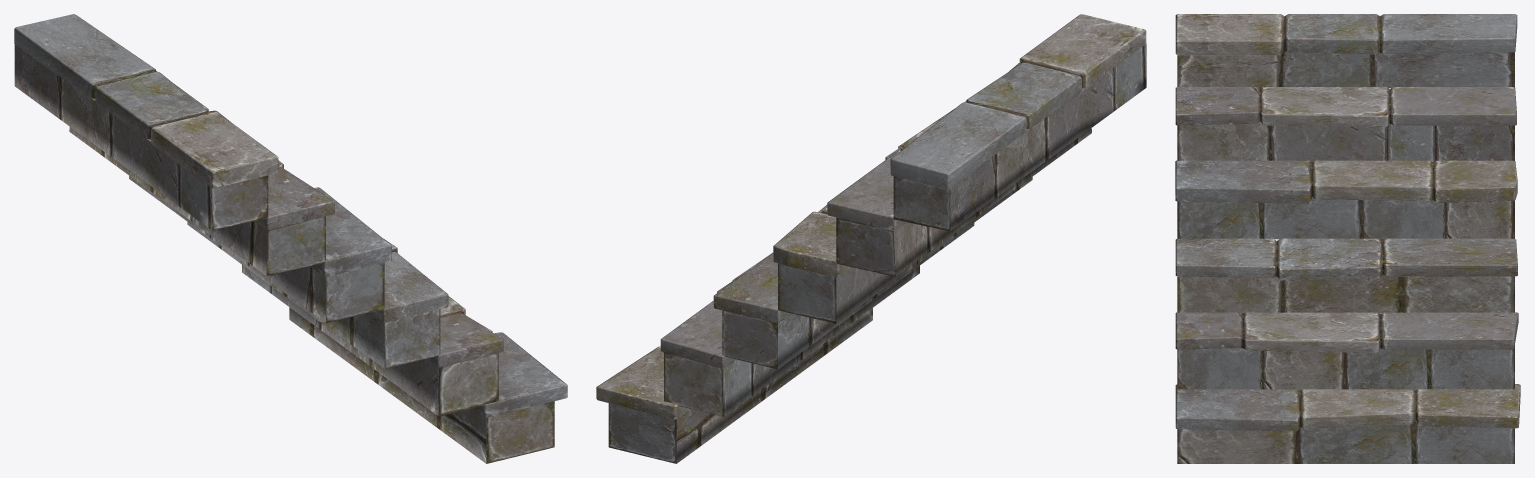
3 views of the same model, side by side, from view 1: azimuth 30°, elevation 25°; view 2: azimuth 150°, elevation 25°; view 3: azimuth 270°, elevation 25° (orthographic). The views are drawn at different scales.
Visible parts, largest first — view 1: SM_BB_T3_Stairs_LOD0; view 2: SM_BB_T3_Stairs_LOD0; view 3: SM_BB_T3_Stairs_LOD0.
Part boxes in pixels (x1,y1,x2,y2): SM_BB_T3_Stairs_LOD0: [14, 14, 567, 463]; SM_BB_T3_Stairs_LOD0: [596, 14, 1146, 463]; SM_BB_T3_Stairs_LOD0: [1175, 14, 1520, 463].
Size of the model in its own units: 1.59 by 1.51 by 1.53.
Materials: 1 (1 with a texture image).
